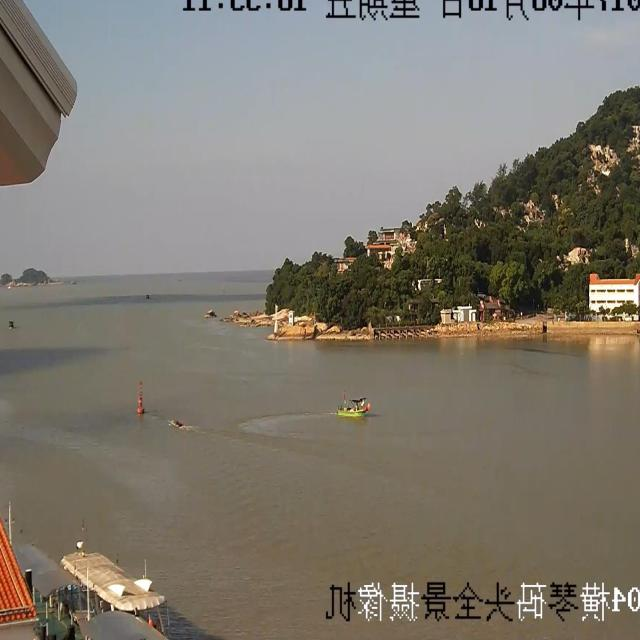buoy: (127, 381, 148, 428)
fishing boat: (330, 372, 371, 432)
